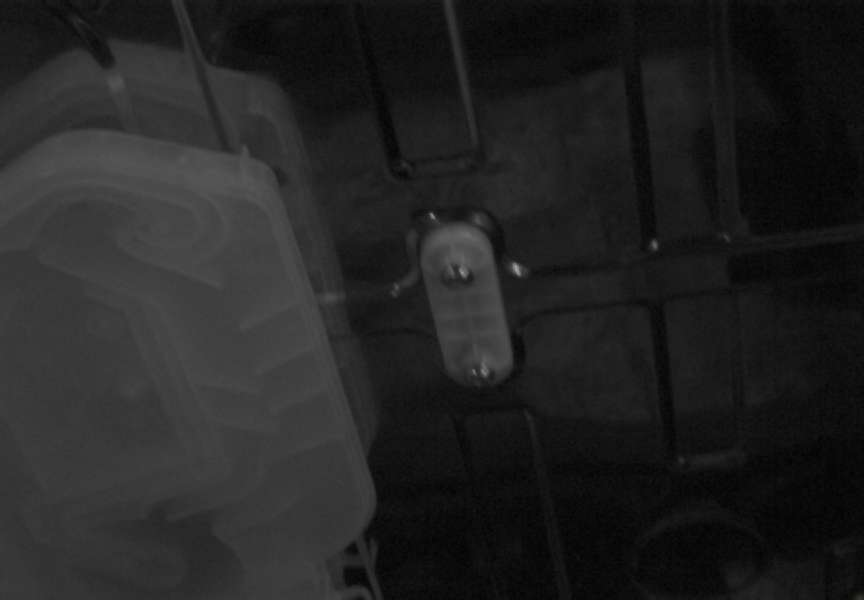screw: (441, 263, 474, 287), (465, 362, 495, 388)
